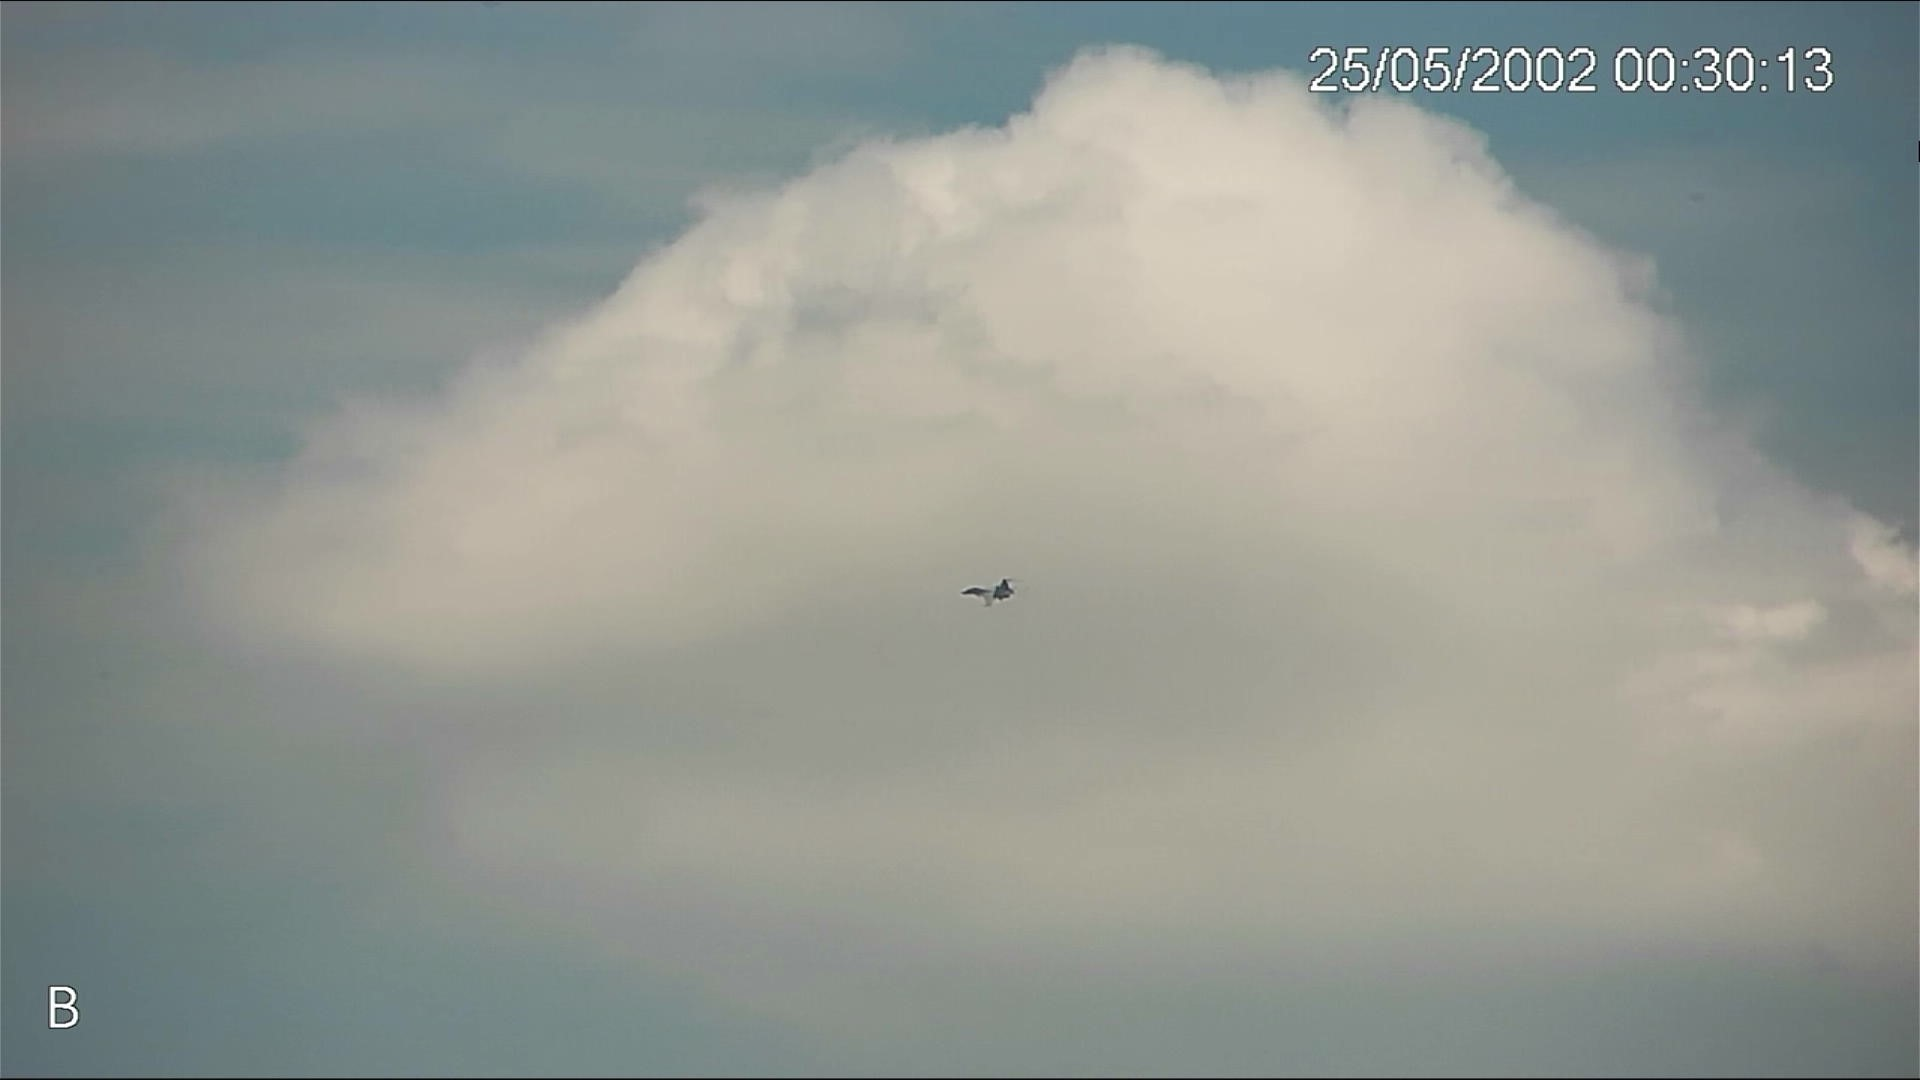SU_30: (957, 575, 1019, 607)
